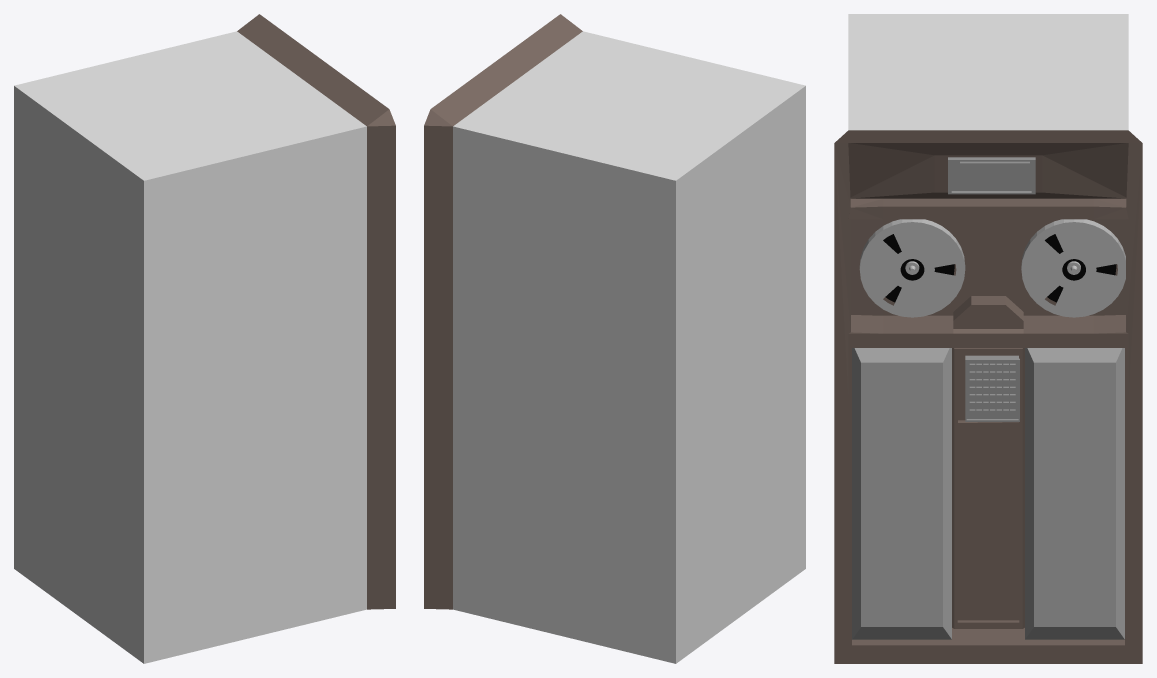
Rendered from server.dae.
The picture shows the model from 3 angles, left to right: view 1: azimuth 30°, elevation 25°; view 2: azimuth 150°, elevation 25°; view 3: azimuth 270°, elevation 25°; orthographic projection. The views are drawn at different scales.
Parts seen in each view (by area): view 1: Server; view 2: Server; view 3: Server, Cassete, Cassete 2, Buttons, Cube.
Boxes of the visible parts, x1=… form: Server: x1=14, y1=14, x2=395, y2=663; Server: x1=424, y1=14, x2=805, y2=663; Server: x1=834, y1=14, x2=1142, y2=663; Cassete: x1=859, y1=219, x2=965, y2=317; Cassete 2: x1=1021, y1=219, x2=1125, y2=317; Buttons: x1=965, y1=355, x2=1019, y2=421; Cube: x1=948, y1=157, x2=1035, y2=194.
Size of the model in its own units: 1.94 by 1.95 by 3.73.
